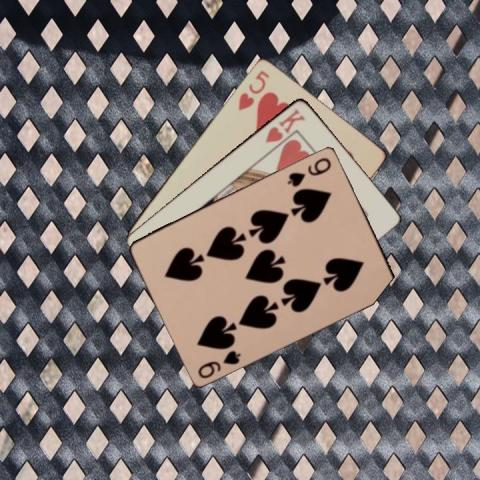5h: (235, 67, 271, 112)
9s: (284, 154, 333, 188), (194, 347, 243, 380)
Kh: (262, 105, 307, 144)
